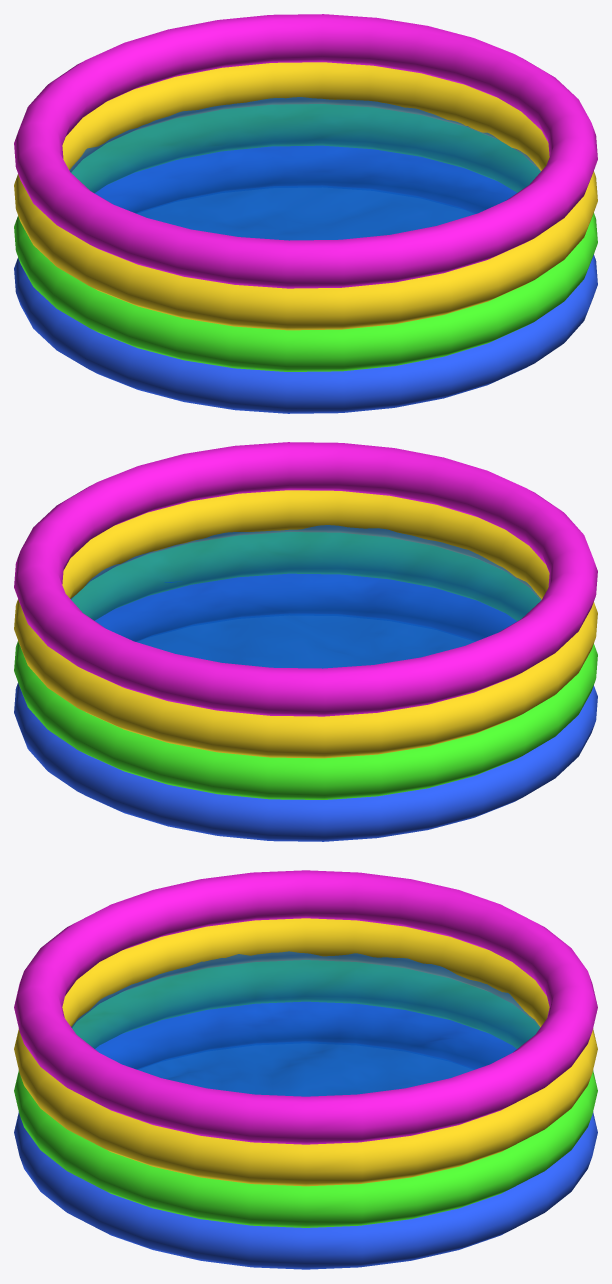
File: Round_swimming_pool.fbx
3 renders of one model, top to bottom at view 1: azimuth 30°, elevation 25°; view 2: azimuth 150°, elevation 25°; view 3: azimuth 270°, elevation 25°, orthographic.
Parts seen in each view (by area): view 1: nodes[2], nodes[4], nodes[5], nodes[1], nodes[0], nodes[3]; view 2: nodes[2], nodes[4], nodes[5], nodes[1], nodes[0], nodes[3]; view 3: nodes[2], nodes[4], nodes[5], nodes[1], nodes[0], nodes[3].
Part boxes in pixels (x1,y1,x2,y2): nodes[2]: (14,14,597,288); nodes[4]: (69,97,540,240); nodes[5]: (14,62,597,330); nodes[1]: (14,104,597,371); nodes[0]: (14,146,597,413); nodes[3]: (136,186,474,240); nodes[2]: (14,442,597,716); nodes[4]: (71,525,541,668); nodes[5]: (14,490,597,758); nodes[1]: (14,532,597,799); nodes[0]: (14,574,597,841); nodes[3]: (137,614,475,668); nodes[2]: (14,870,597,1144); nodes[4]: (71,951,540,1096); nodes[5]: (14,918,597,1186); nodes[1]: (14,960,597,1227); nodes[0]: (14,1002,597,1269); nodes[3]: (137,1041,474,1096).
Bounding box in the file's own units: 953 × 300 × 953.
